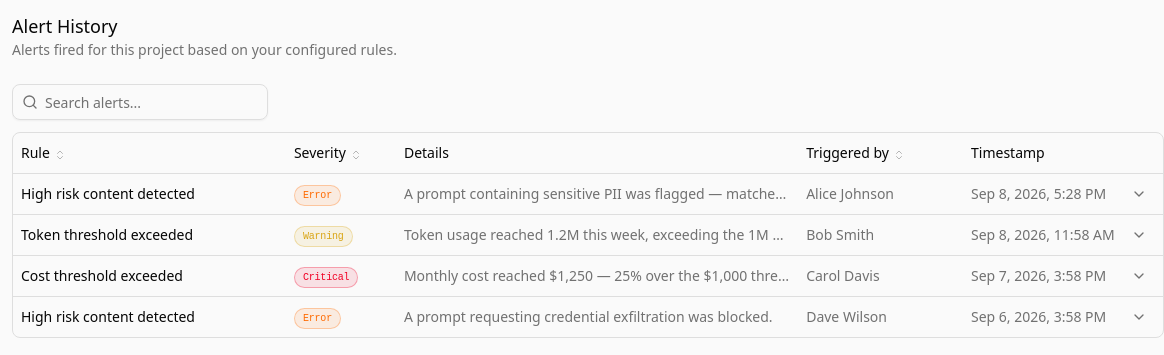
Test: ProjectAlertsTab › Search › shows empty state when no results match
The width and height of the screenshot is (1164, 355).
Type "zzznomatch" into the field labelled "Search alerts..." at (140, 102), box 12,84 -> 268,120
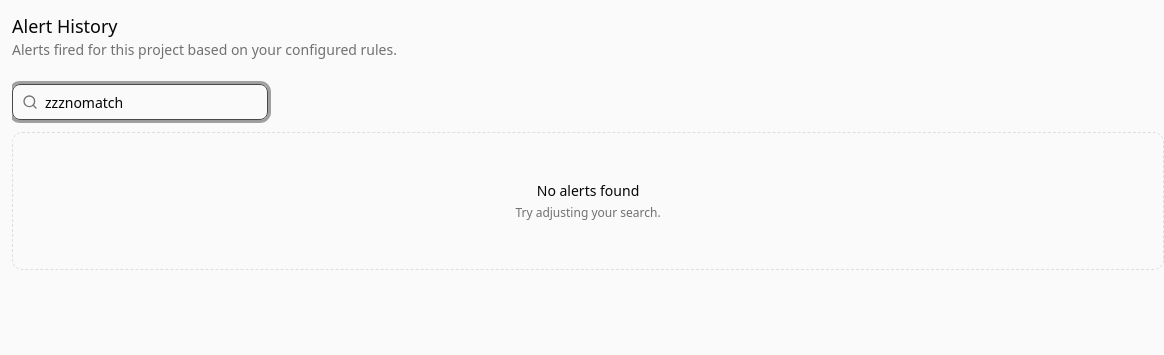
Expected: the text "No alerts found" is shown, 537,181 -> 639,201
